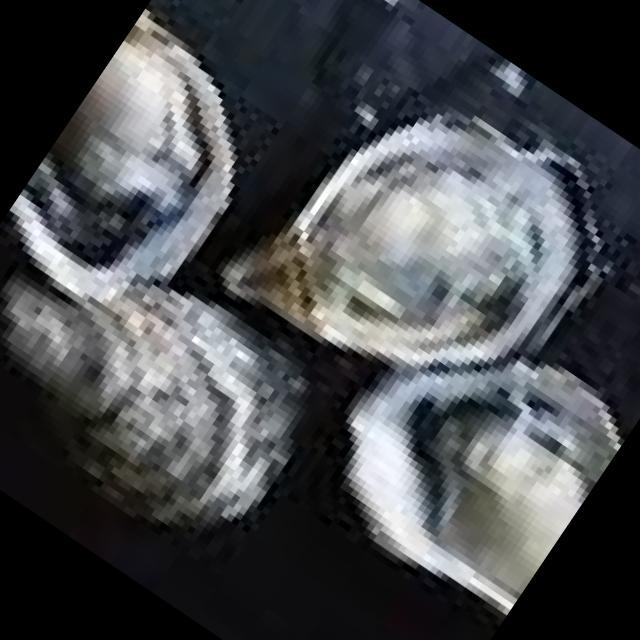Oyster- Indeterminate: (0, 193, 340, 571), (0, 8, 294, 341)
Oyster-Open: (300, 284, 639, 625)
